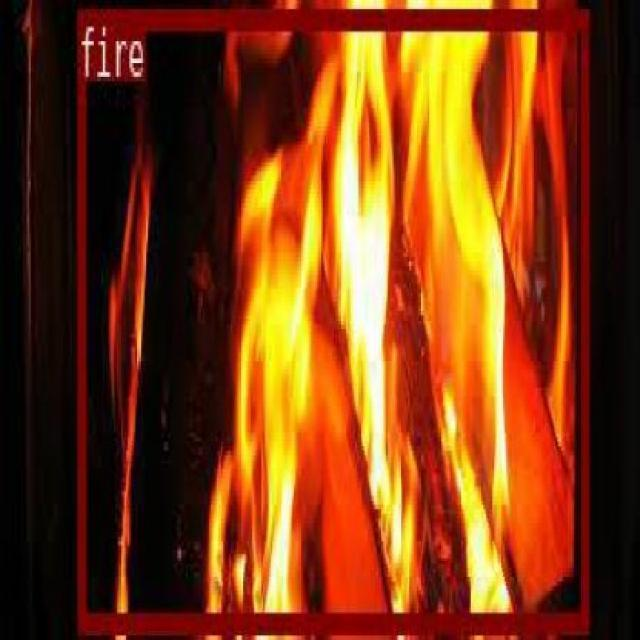Fire: (332, 318, 511, 623)
